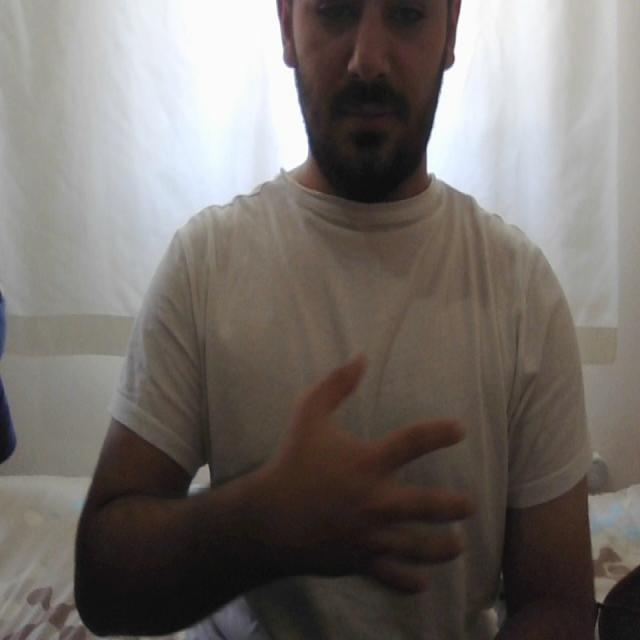Anne: (225, 347, 504, 625)
